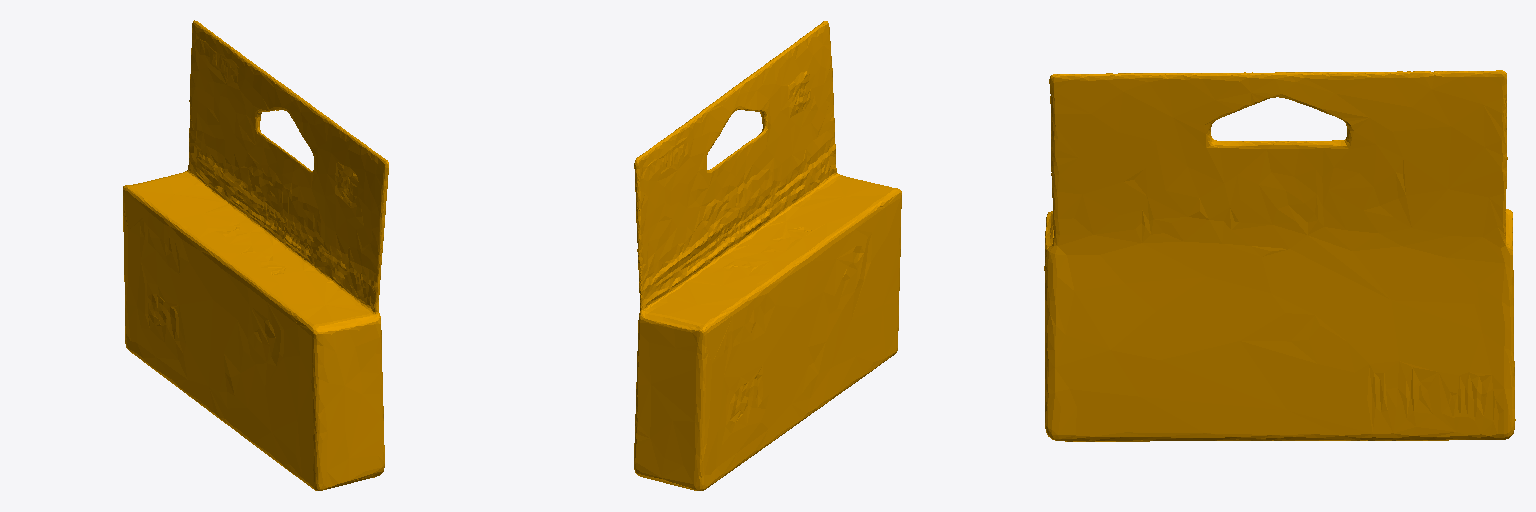
robot.urdf — Canon_Pixma_Ink_Cartridge_Cyan_251:
<?xml version="1.0" ?>
<robot name="Canon_Pixma_Ink_Cartridge_Cyan_251">
  <link name="link_0">
    <inertial>
      <origin xyz="0 0 0" rpy="0 0 0"/>
      <mass value="1.0"/>
      <inertia ixx="0.1" ixy="0.0" ixz="0.0" iyy="0.1" iyz="0.0" izz="0.1"/>
    </inertial>
    <visual name="visual">
      <origin xyz="0 0 0" rpy="0 0 0"/>
      <geometry>
        <mesh filename="meshes/model.obj"/>
      </geometry>
    </visual>
    <collision name="collision_0">
      <origin xyz="0 0 0" rpy="0 0 0"/>
      <geometry>
        <mesh filename="meshes/model.obj"/>
      </geometry>
    </collision>
  </link>
</robot>

--- Render facts (derived) ---
Views: 3 orthographic renders of the robot side by side, from view 1: azimuth 30°, elevation 25°; view 2: azimuth 150°, elevation 25°; view 3: azimuth 270°, elevation 25°.
Robot: Canon_Pixma_Ink_Cartridge_Cyan_251 — 1 links, 0 joints (none); root link link_0; default pose: all joints at 0.
Links seen in each view (by area): view 1: link_0; view 2: link_0; view 3: link_0.
Boxes of the visible links, x1,y1,x2,y2 form: link_0: [123, 20, 388, 490]; link_0: [634, 21, 901, 490]; link_0: [1044, 70, 1515, 441].
Bounding box of the posed robot: 0.0248 × 0.111 × 0.0978 m (x, y, z).
1 mesh visuals loaded from 1 distinct referenced files (1 OBJ).